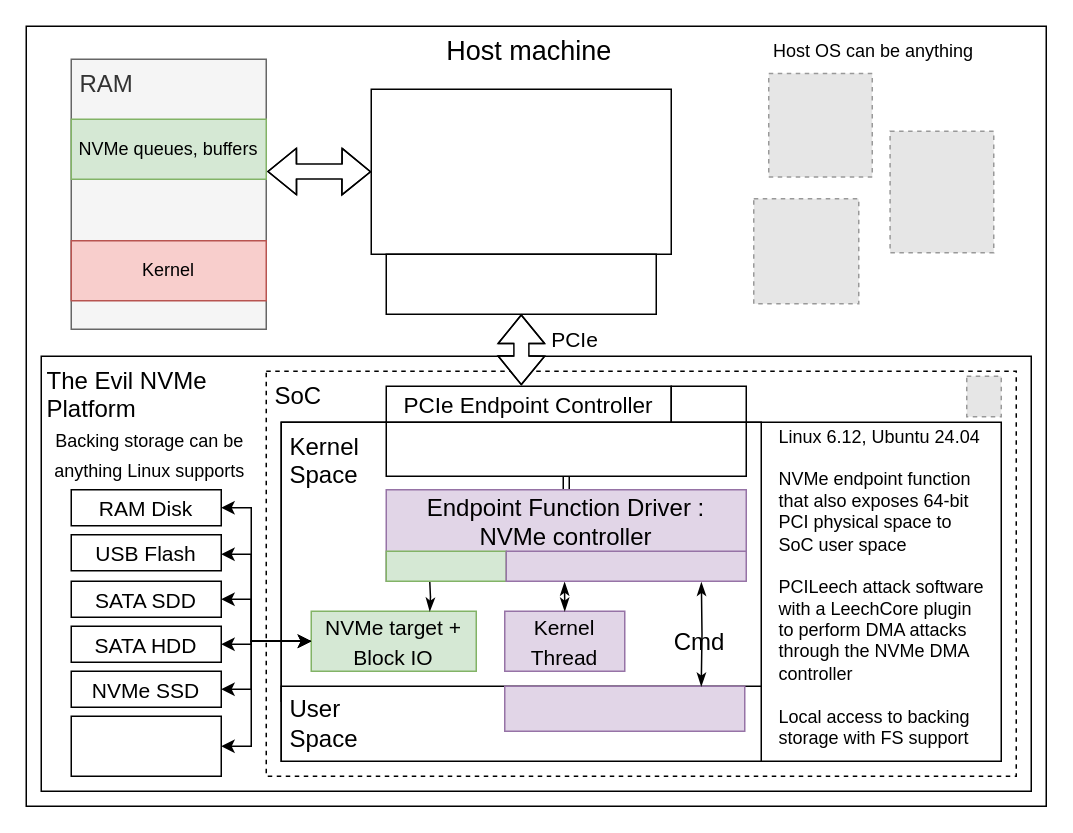
The diagram is 1073 pixels wide and 833 high, and some of its shapes have lost their labels. Grey dashed boxes stand in for pictures. The centre of each missing label's shape, as x and y in pixels:
"Attack Software" belongs at (624,708).
"CPU (Intel, AMD, ARM)" belongs at (520,171).
"DMA" belongs at (708,403).
"Extra functionality" belongs at (625,565).
"Normal IO" belongs at (445,565).
"NVMe-oF (e.g., TCP, FC)" belongs at (145,745).
"PCIe Endpoint Controller Driver" belongs at (565,448).
"PCIe Host Controller (Root Complex)" belongs at (520,283).
